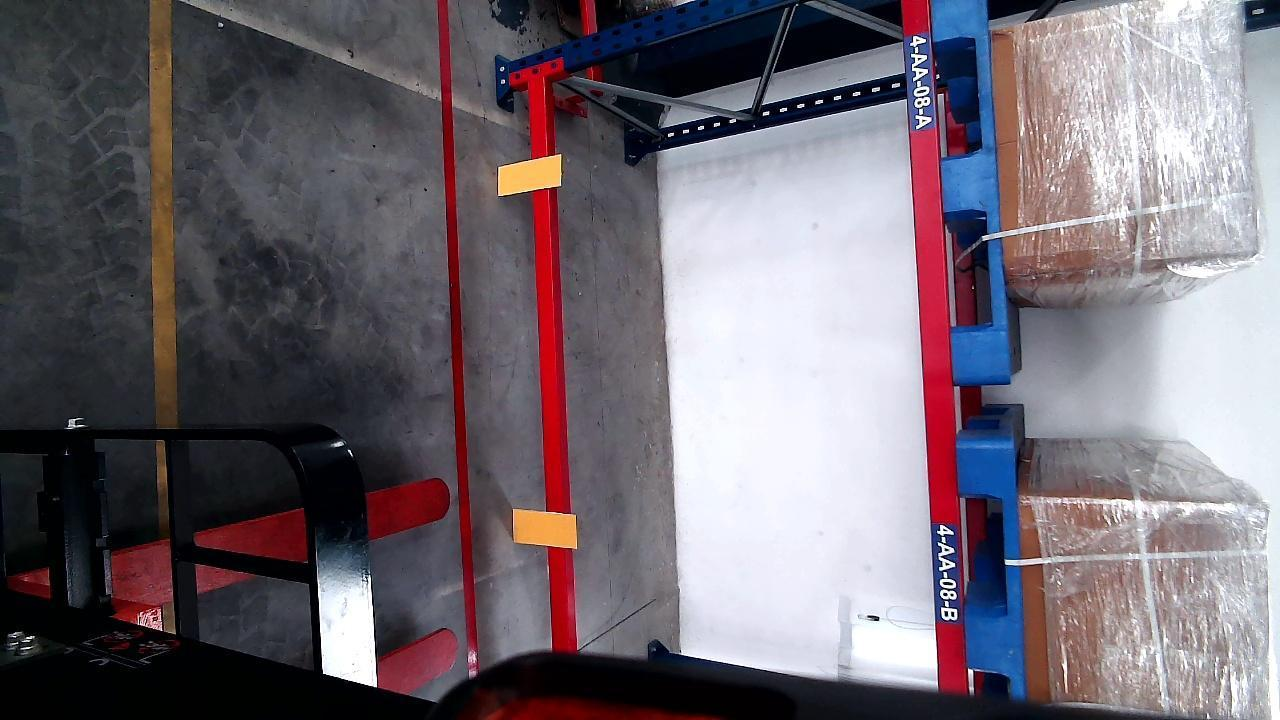h_rack: (903, 0, 967, 701), (434, 0, 480, 685), (529, 82, 574, 654)
orange_strip: (496, 154, 561, 195), (513, 508, 578, 548)
small_pallet: (926, 0, 1013, 380), (961, 441, 1024, 701)
yellow_line: (149, 4, 178, 416)
